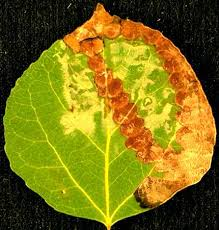Diseased_Leaves: (109, 99, 162, 162), (75, 23, 163, 60), (174, 93, 212, 176), (169, 59, 193, 91), (141, 178, 163, 207), (98, 75, 113, 89)
